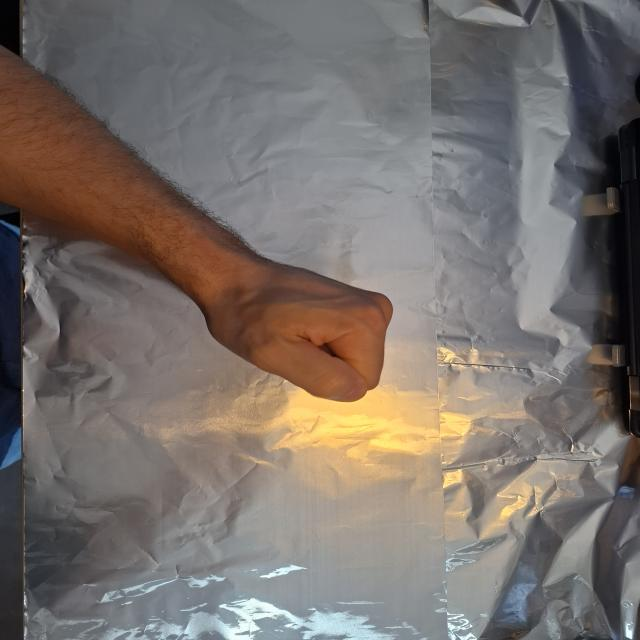glove_off: (196, 256, 397, 405)
